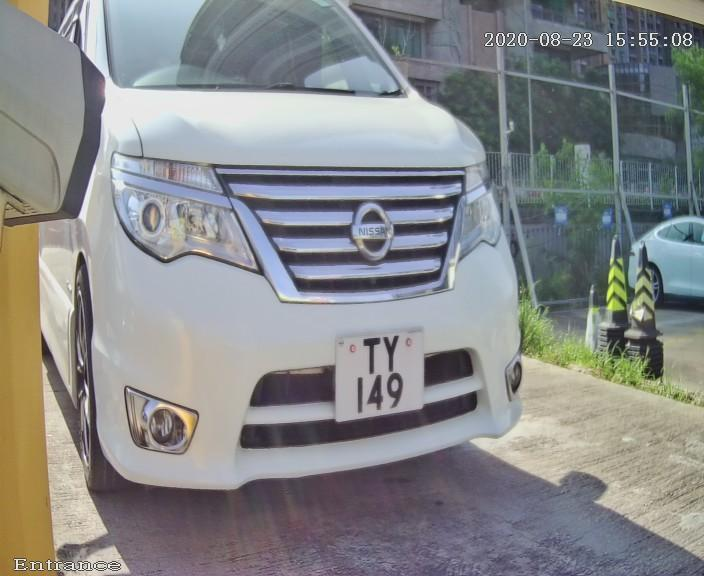Car: (16, 1, 560, 564)
License Plate: (321, 314, 437, 438)
